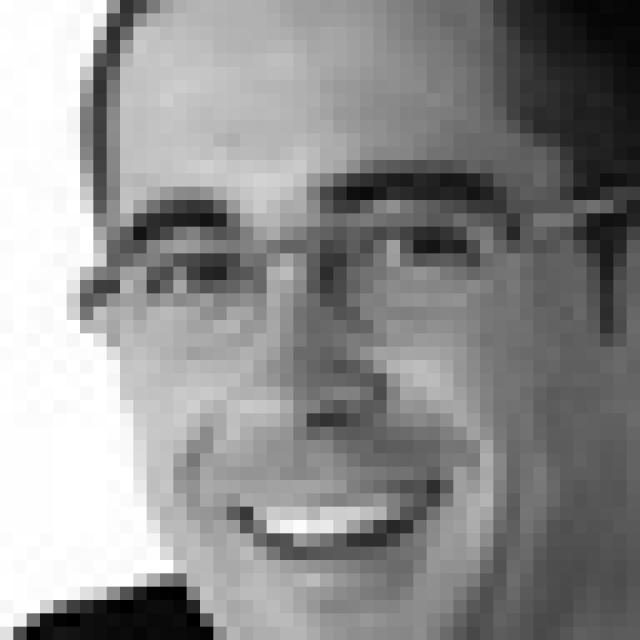happy: (116, 174, 526, 615)
